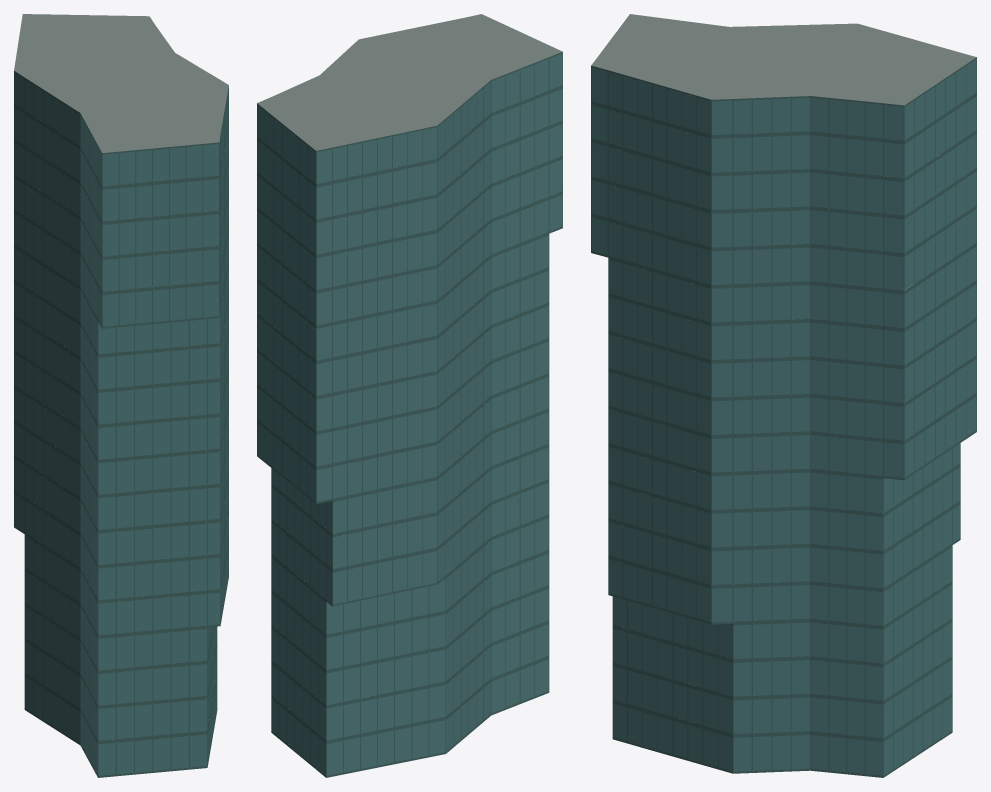
The model's file is prime-tower-zurich-far.glb.
The picture shows the model from 3 angles, left to right: view 1: azimuth 30°, elevation 25°; view 2: azimuth 150°, elevation 25°; view 3: azimuth 270°, elevation 25°; orthographic projection. The views are drawn at different scales.
Parts seen in each view (by area): view 1: prime-tower-zurich-0-glass, prime-tower-zurich-0-frame, prime-tower-zurich-0-roof; view 2: prime-tower-zurich-0-glass, prime-tower-zurich-0-frame, prime-tower-zurich-0-roof; view 3: prime-tower-zurich-0-glass, prime-tower-zurich-0-frame, prime-tower-zurich-0-roof.
Boxes of the visible parts, left/top/right/bottom form: prime-tower-zurich-0-glass: left=14, top=72, right=228, bottom=775; prime-tower-zurich-0-frame: left=14, top=71, right=228, bottom=777; prime-tower-zurich-0-roof: left=14, top=14, right=228, bottom=153; prime-tower-zurich-0-glass: left=257, top=53, right=562, bottom=775; prime-tower-zurich-0-frame: left=257, top=52, right=562, bottom=777; prime-tower-zurich-0-roof: left=257, top=14, right=562, bottom=150; prime-tower-zurich-0-glass: left=591, top=59, right=976, bottom=775; prime-tower-zurich-0-frame: left=591, top=57, right=976, bottom=777; prime-tower-zurich-0-roof: left=591, top=14, right=976, bottom=105.
Size of the model in its own units: 36.67 by 126 by 65.28.
